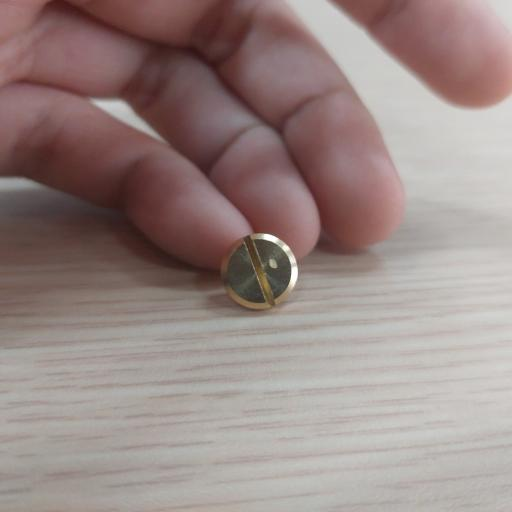Slotted: (220, 232, 298, 309)
